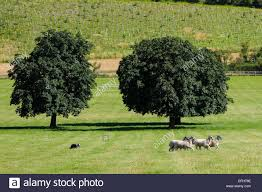sheep: (195, 135, 214, 152), (175, 136, 195, 151), (213, 134, 223, 152)
